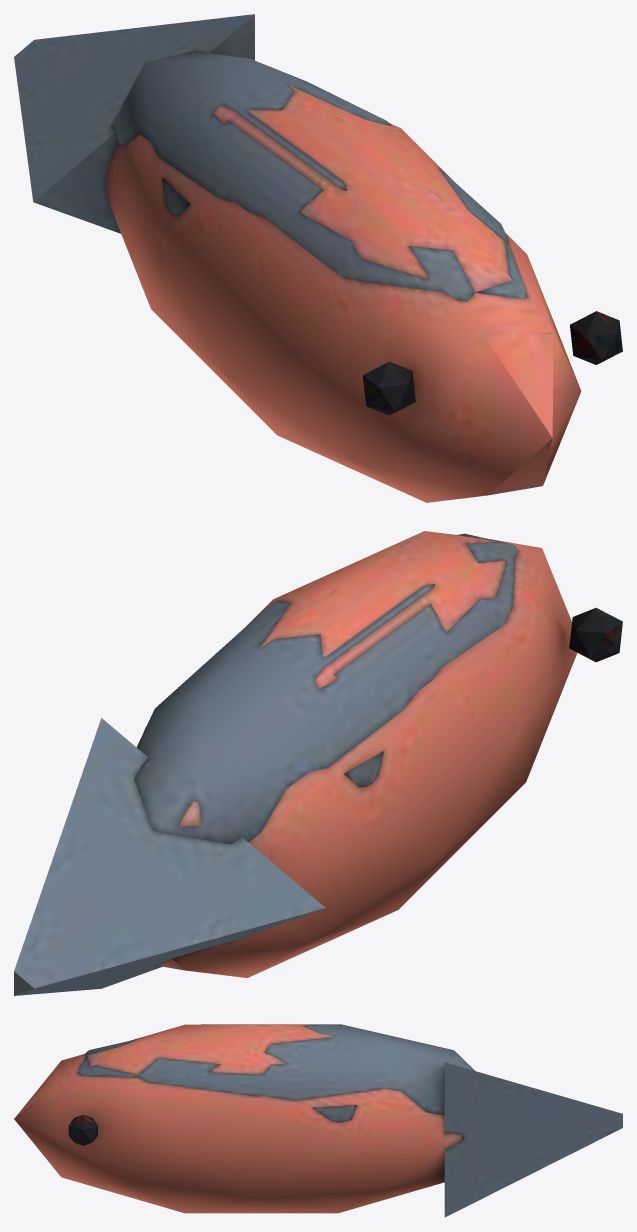
The model's file is salmon.glb.
The picture shows the model from 3 angles, top to bottom: view 1: azimuth 30°, elevation 25°; view 2: azimuth 150°, elevation 25°; view 3: azimuth 270°, elevation 25°; orthographic projection. The views are drawn at different scales.
Visible parts, largest first — view 1: salmon; view 2: salmon; view 3: salmon.
Boxes of the visible parts, <box> form: salmon: <box>14,14,622,502</box>; salmon: <box>14,531,622,995</box>; salmon: <box>14,1024,622,1217</box>.
Bounding box in the file's own units: 0.4084 × 0.462 × 1.35.
Materials: 1 (1 with a texture image).
